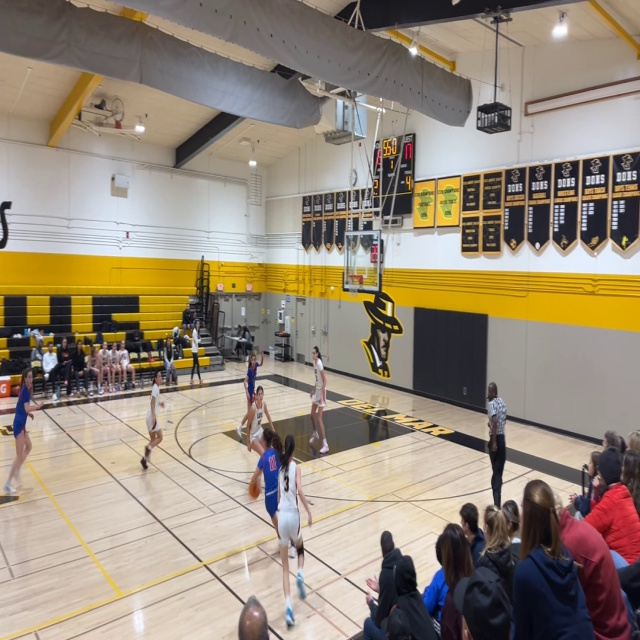Basketball: (249, 482, 260, 499)
